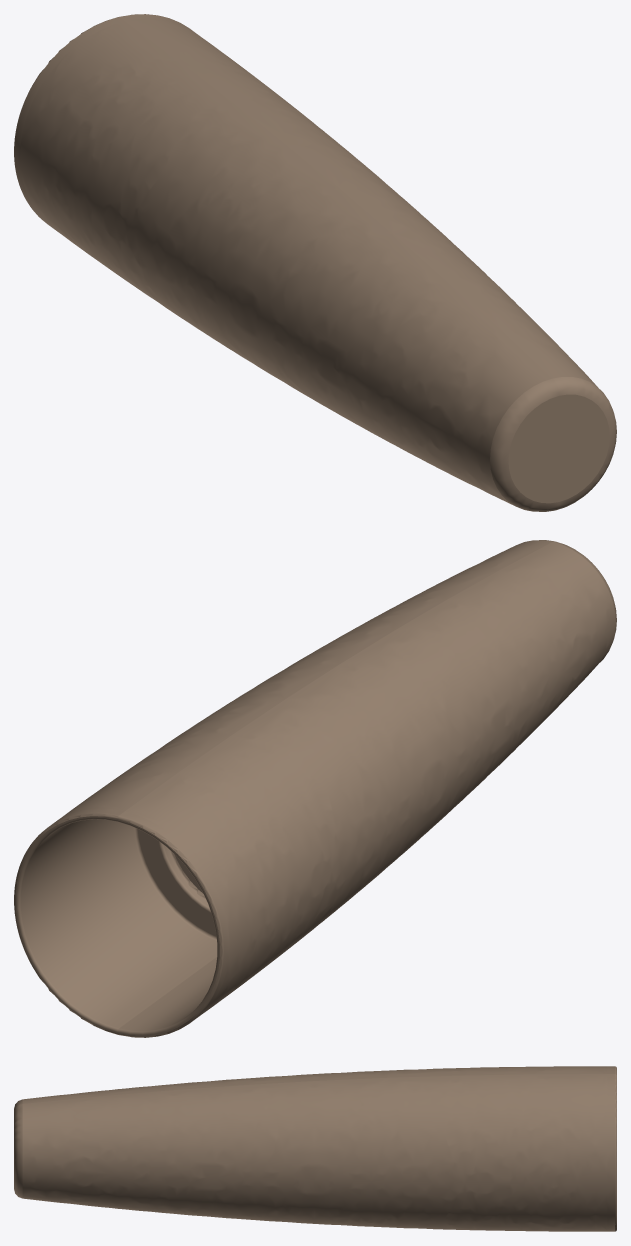
File: 281243_DECOMPRESSION CONE TOOL.fbx
The picture shows the model from 3 angles, top to bottom: view 1: azimuth 30°, elevation 25°; view 2: azimuth 150°, elevation 25°; view 3: azimuth 270°, elevation 25°; orthographic projection. The views are drawn at different scales.
Visible parts, largest first — view 1: meshes[0]; view 2: meshes[0]; view 3: meshes[0].
Boxes of the visible parts, bbox=[...] form: meshes[0]: bbox=[14, 14, 616, 511]; meshes[0]: bbox=[14, 540, 616, 1037]; meshes[0]: bbox=[14, 1066, 616, 1231].
Size of the model in its own units: 17.01 by 17 by 62.
